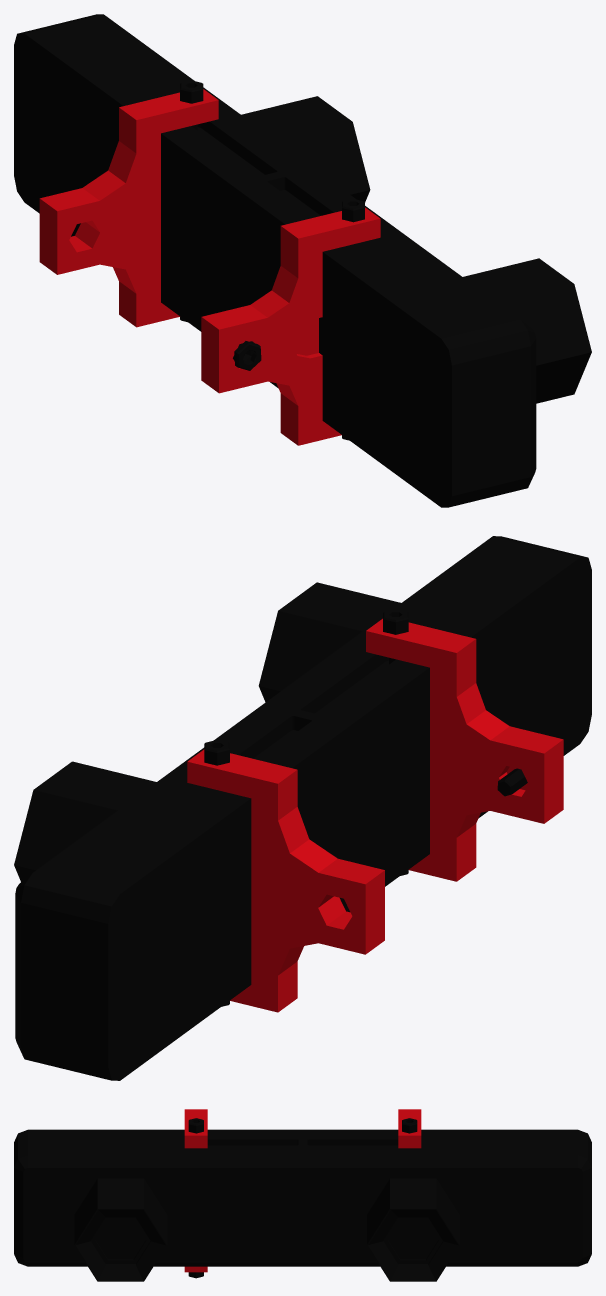
The model's file is zed_mini_servo_down.dae.
3 renders of one model, top to bottom at view 1: azimuth 30°, elevation 25°; view 2: azimuth 150°, elevation 25°; view 3: azimuth 270°, elevation 25°, orthographic. The views are drawn at different scales.
Visible parts, largest first — view 1: Zedmini_Servo_Down_Black, Zedmini_Servo_Down_Red; view 2: Zedmini_Servo_Down_Black, Zedmini_Servo_Down_Red; view 3: Zedmini_Servo_Down_Black, Zedmini_Servo_Down_Red.
Part boxes in pixels (left/top/right/bottom): Zedmini_Servo_Down_Black: left=14, top=14, right=591, bottom=507; Zedmini_Servo_Down_Red: left=39, top=89, right=380, bottom=445; Zedmini_Servo_Down_Black: left=14, top=536, right=591, bottom=1080; Zedmini_Servo_Down_Red: left=187, top=618, right=563, bottom=1012; Zedmini_Servo_Down_Black: left=14, top=1118, right=591, bottom=1281; Zedmini_Servo_Down_Red: left=184, top=1109, right=421, bottom=1272.
Bounding box in the file's own units: 0.0475 × 0.1245 × 0.0365.
